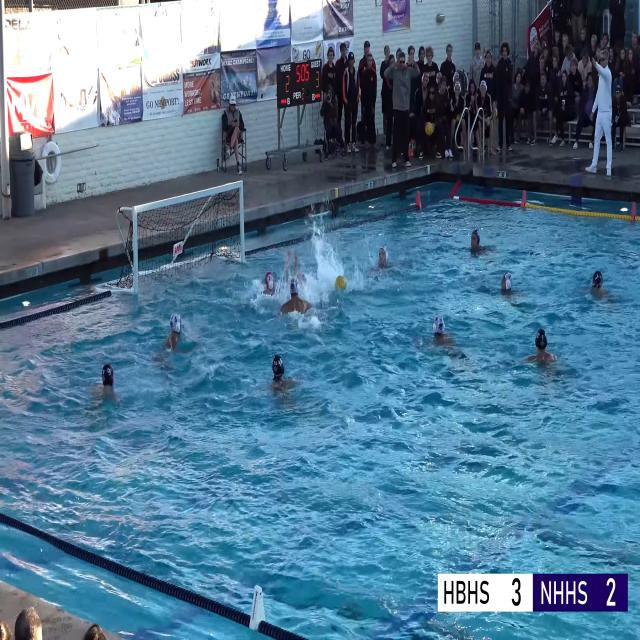ball: (335, 275, 346, 290), (425, 122, 433, 136), (456, 114, 460, 122)
